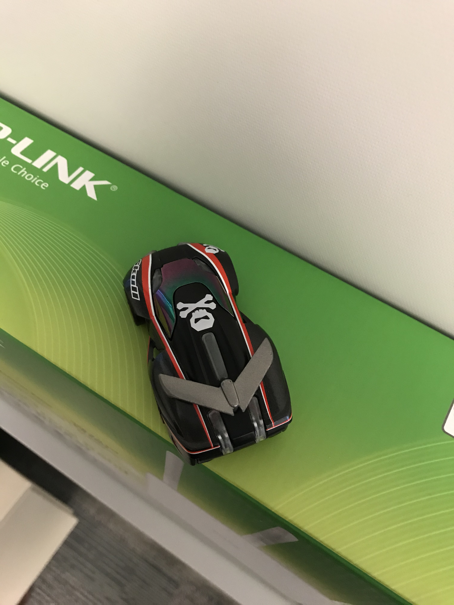Skull: (122, 243, 297, 465)
